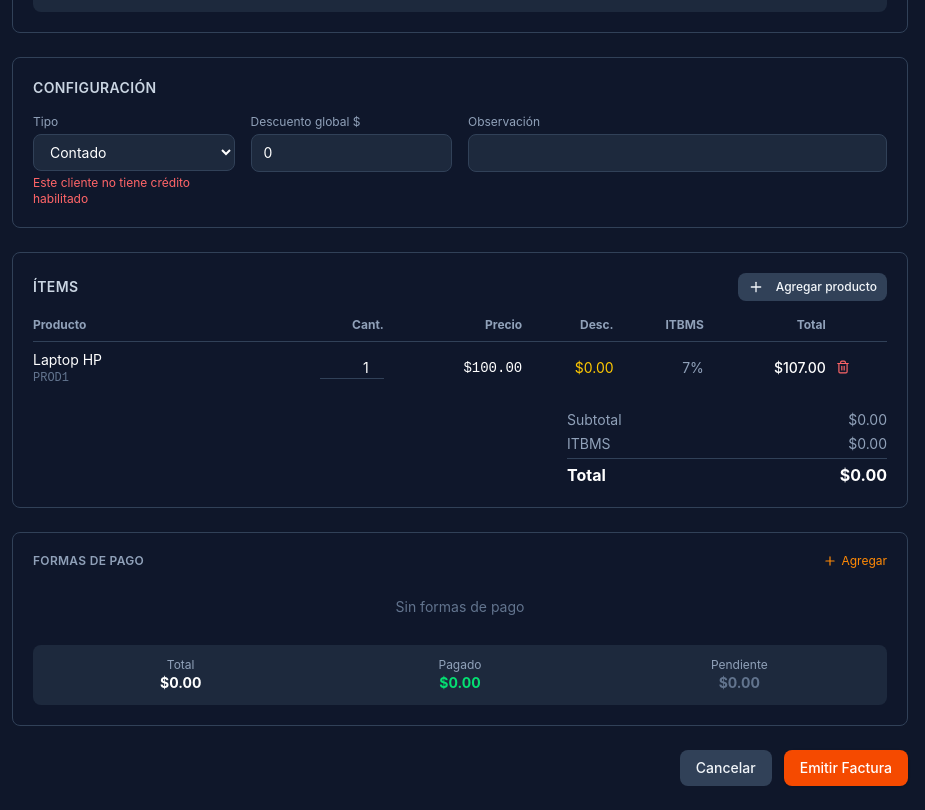
Test case: NuevaFacturaPage › muestra toast de error si contado sin formas de pago
(page scrolled)
What coordinates should you click on to do the following:
click the button "Emitir Factura"
I would click on:
 (846, 768)
Its box is 784,750 -> 908,786.
(page scrolled)
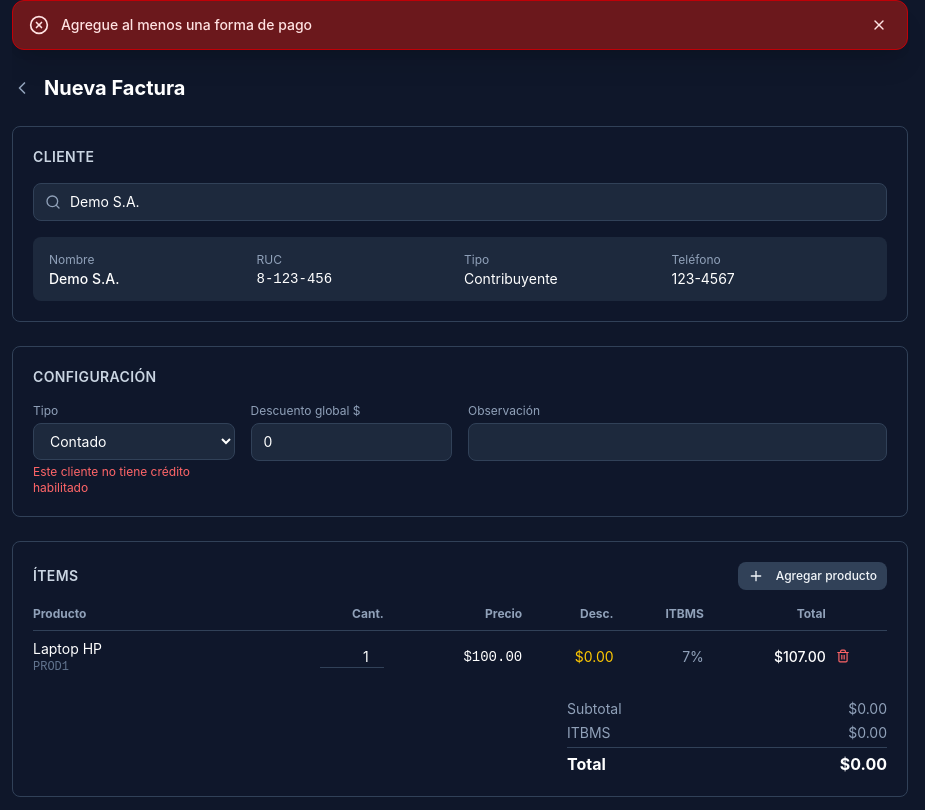
Expected: the text "Agregue al menos una forma de pago" is shown, 61,15 -> 312,35
